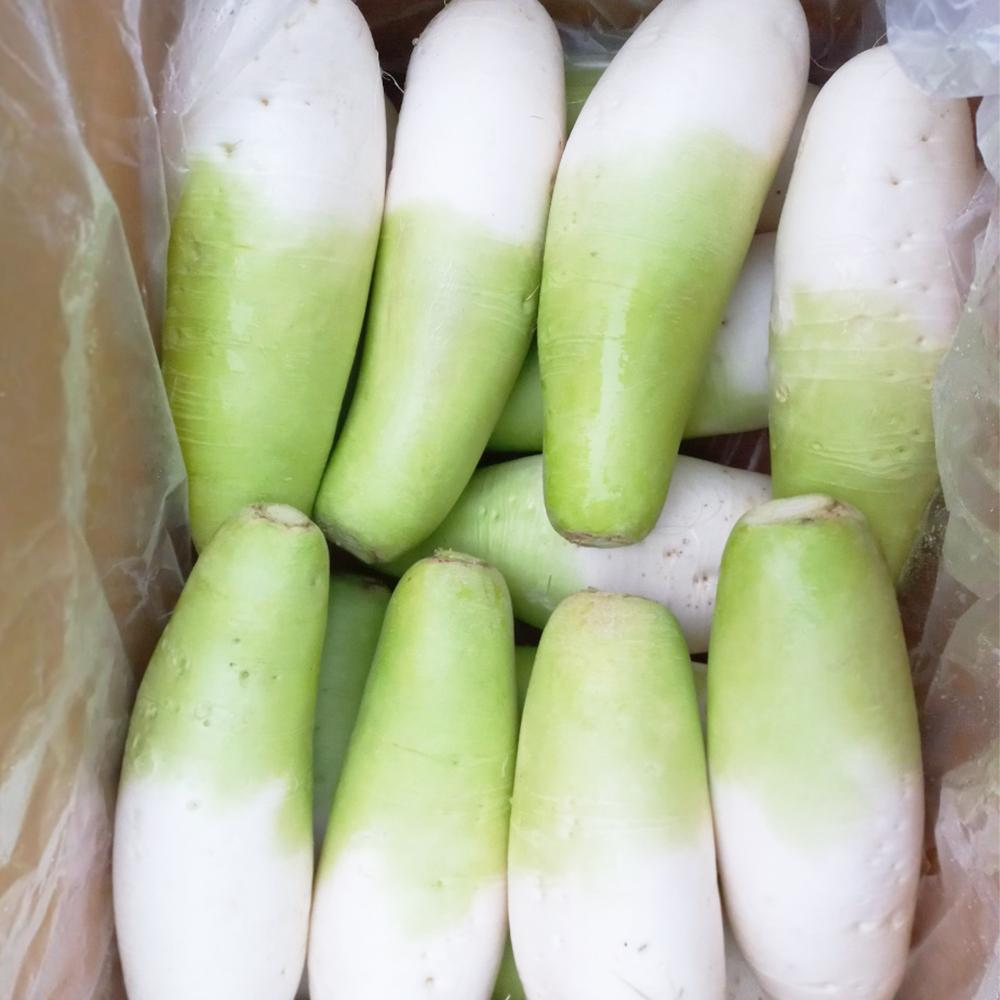radish: (791, 13, 1000, 827), (639, 11, 833, 822), (577, 659, 802, 1000), (816, 678, 1000, 1000)
